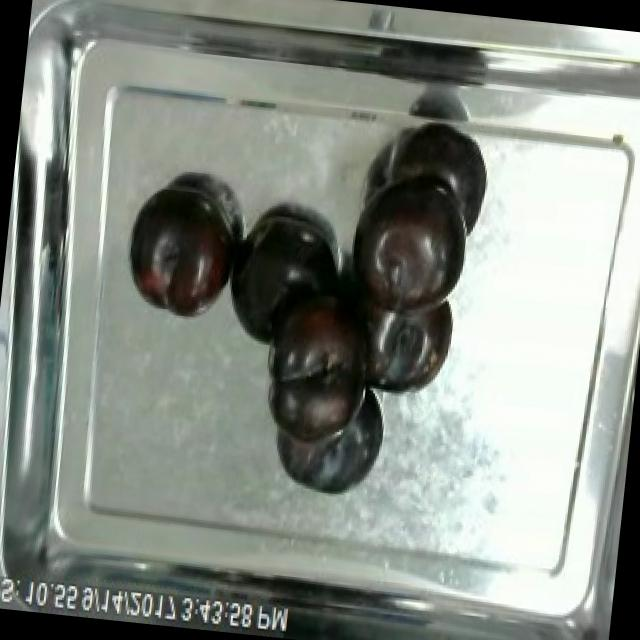Fruit: (342, 165, 476, 332), (117, 178, 247, 328), (360, 296, 458, 408)
